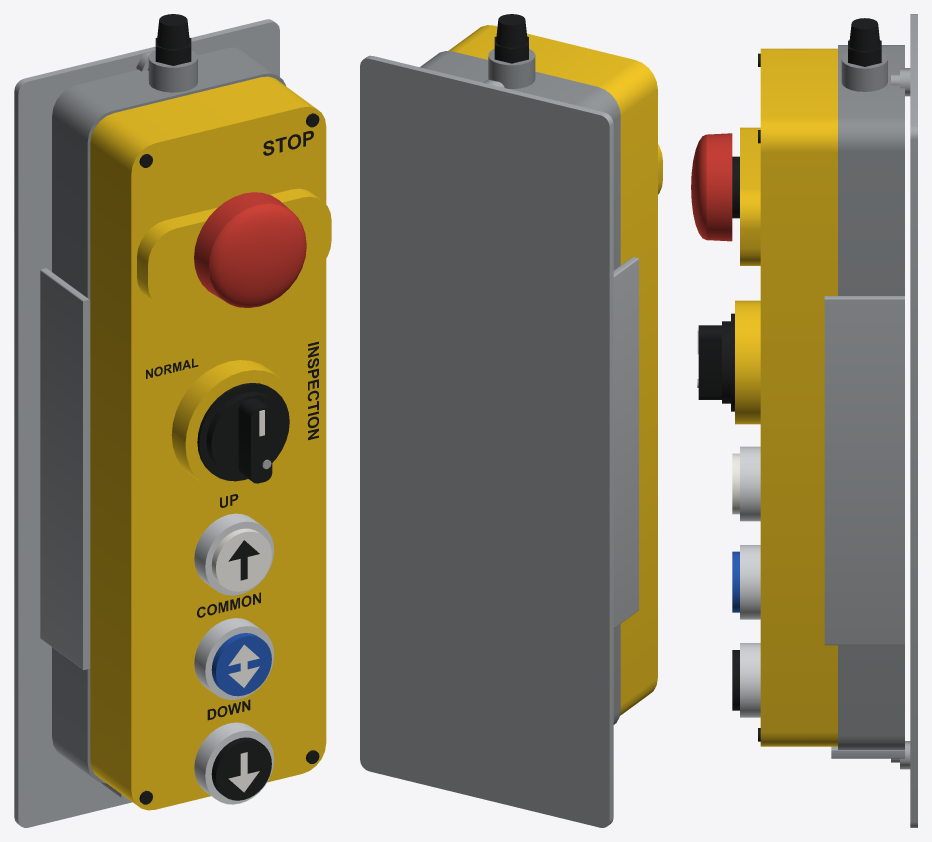
Rendered from pit_inspection_station.glb.
3 renders of one model, left to right at view 1: azimuth 30°, elevation 25°; view 2: azimuth 150°, elevation 25°; view 3: azimuth 270°, elevation 25°, orthographic. The views are drawn at different scales.
Parts seen in each view (by area): view 1: Pit_PitYellow, Pit_PitSteel, Pit_PitGreyShell, Pit_PitBlack, Pit_PitRed, Pit_PitChrome, Pit_PitWhite, Pit_PitBlue, Pit_PitInk; view 2: Pit_PitSteel, Pit_PitYellow, Pit_PitGreyShell, Pit_PitBlack; view 3: Pit_PitYellow, Pit_PitSteel, Pit_PitGreyShell, Pit_PitBlack, Pit_PitChrome, Pit_PitRed, Pit_PitWhite, Pit_PitBlue.
Boxes of the visible parts, x1=… form: Pit_PitYellow: x1=90, y1=76, x2=331, y2=810; Pit_PitSteel: x1=14, y1=19, x2=279, y2=827; Pit_PitGreyShell: x1=52, y1=47, x2=285, y2=783; Pit_PitBlack: x1=139, y1=14, x2=319, y2=804; Pit_PitRed: x1=194, y1=192, x2=306, y2=307; Pit_PitChrome: x1=194, y1=513, x2=274, y2=804; Pit_PitWhite: x1=211, y1=410, x2=271, y2=792; Pit_PitBlue: x1=211, y1=633, x2=271, y2=696; Pit_PitInk: x1=146, y1=131, x2=318, y2=720; Pit_PitSteel: x1=360, y1=55, x2=638, y2=827; Pit_PitYellow: x1=448, y1=25, x2=662, y2=715; Pit_PitGreyShell: x1=420, y1=48, x2=620, y2=724; Pit_PitBlack: x1=494, y1=14, x2=528, y2=63; Pit_PitYellow: x1=735, y1=48, x2=837, y2=746; Pit_PitSteel: x1=697, y1=14, x2=917, y2=827; Pit_PitGreyShell: x1=838, y1=45, x2=904, y2=749; Pit_PitBlack: x1=698, y1=18, x2=881, y2=741; Pit_PitChrome: x1=740, y1=446, x2=760, y2=717; Pit_PitRed: x1=691, y1=133, x2=732, y2=241; Pit_PitWhite: x1=697, y1=328, x2=739, y2=514; Pit_PitBlue: x1=732, y1=551, x2=739, y2=612.
Bounding box in the file's own units: 0.11 × 0.32 × 0.088.
